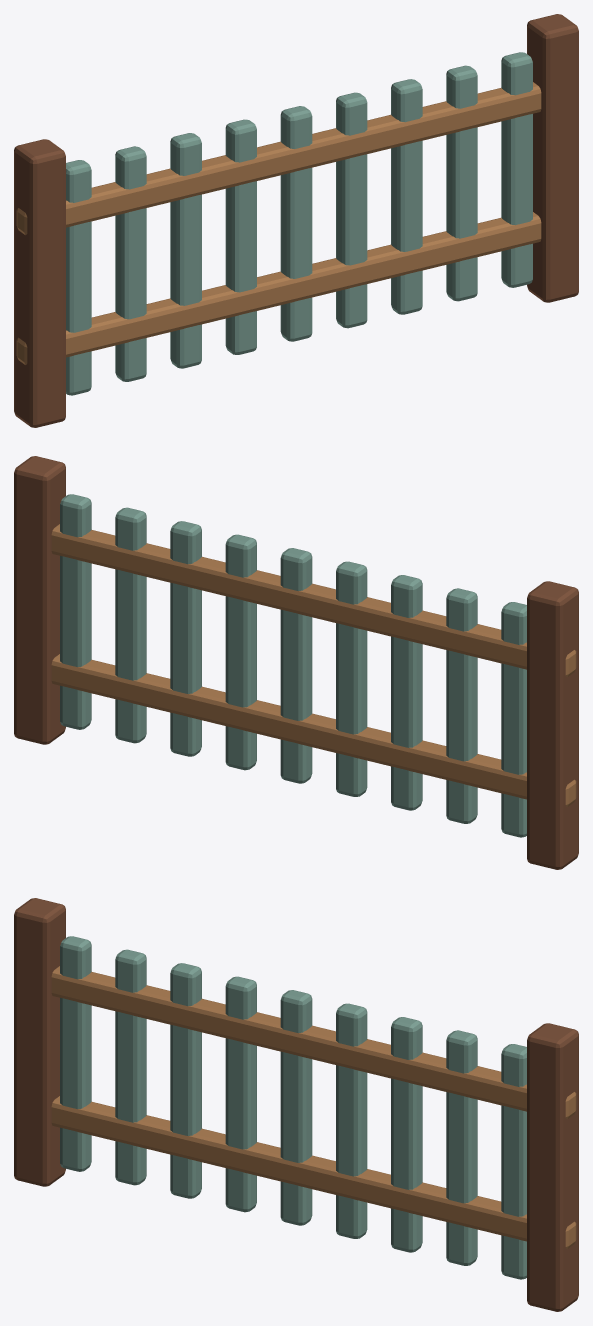
File: attachment_garden_fence_2m__attachments.glb
3 renders of one model, top to bottom at view 1: azimuth 30°, elevation 25°; view 2: azimuth 150°, elevation 25°; view 3: azimuth 330°, elevation 25°, orthographic.
Parts seen in each view (by area): view 1: attachment_garden_fence_2m__attachments__mesh_00; view 2: attachment_garden_fence_2m__attachments__mesh_00; view 3: attachment_garden_fence_2m__attachments__mesh_00.
Part boxes in pixels (x1,y1,x2,y2): attachment_garden_fence_2m__attachments__mesh_00: (14, 14, 578, 427); attachment_garden_fence_2m__attachments__mesh_00: (14, 456, 578, 869); attachment_garden_fence_2m__attachments__mesh_00: (14, 898, 578, 1311).
Size of the model in its own units: 2 by 0.94 by 0.13.
